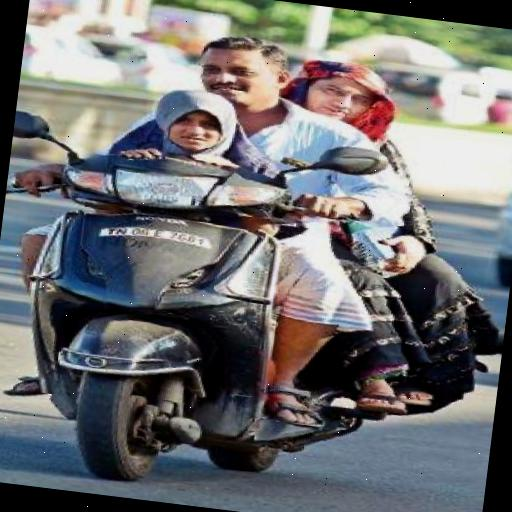no helmet: (184, 22, 314, 131)
triple riding: (86, 0, 433, 505)
